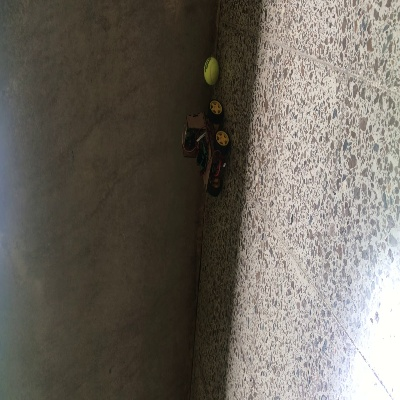Ball: (202, 58, 219, 84)
Robot: (180, 101, 231, 196)
